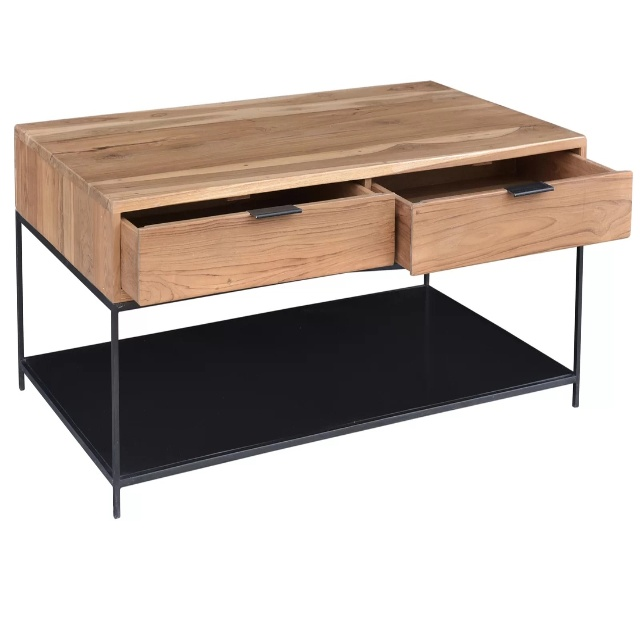obstacle: (15, 82, 632, 516)
